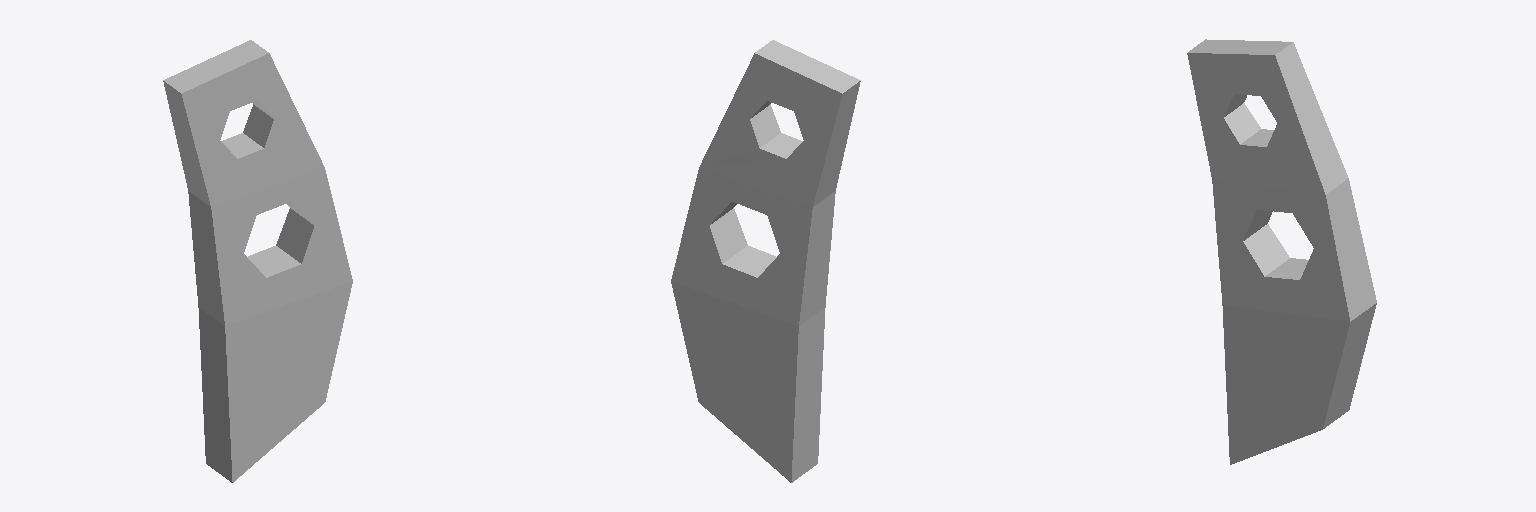
The model's file is PE_UFO_Arm_A_01.obj.
The picture shows the model from 3 angles: view 1: azimuth 30°, elevation 25°; view 2: azimuth 150°, elevation 25°; view 3: azimuth 330°, elevation 25°; orthographic projection.
Parts seen in each view (by area): view 1: PE_UFO_Arm_A_01; view 2: PE_UFO_Arm_A_01; view 3: PE_UFO_Arm_A_01.
Boxes of the visible parts, x1,y1,x2,y2 form: PE_UFO_Arm_A_01: [163, 40, 352, 482]; PE_UFO_Arm_A_01: [671, 40, 860, 482]; PE_UFO_Arm_A_01: [1187, 39, 1376, 464].
Bounding box in the file's own units: 1.75 × 4.17 × 0.4839.